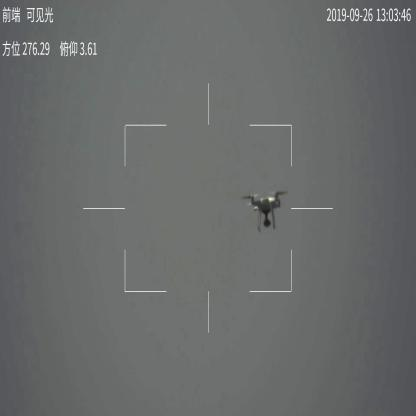uav: (238, 189, 287, 232)
